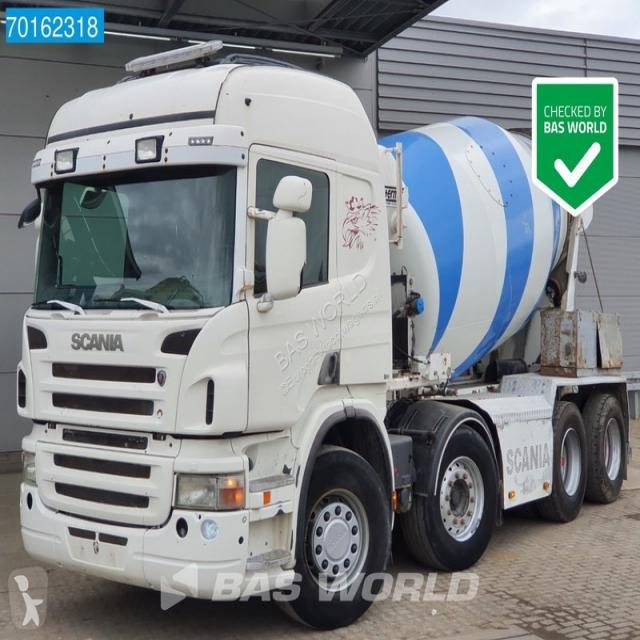Mixer Truck: (17, 62, 631, 630)
